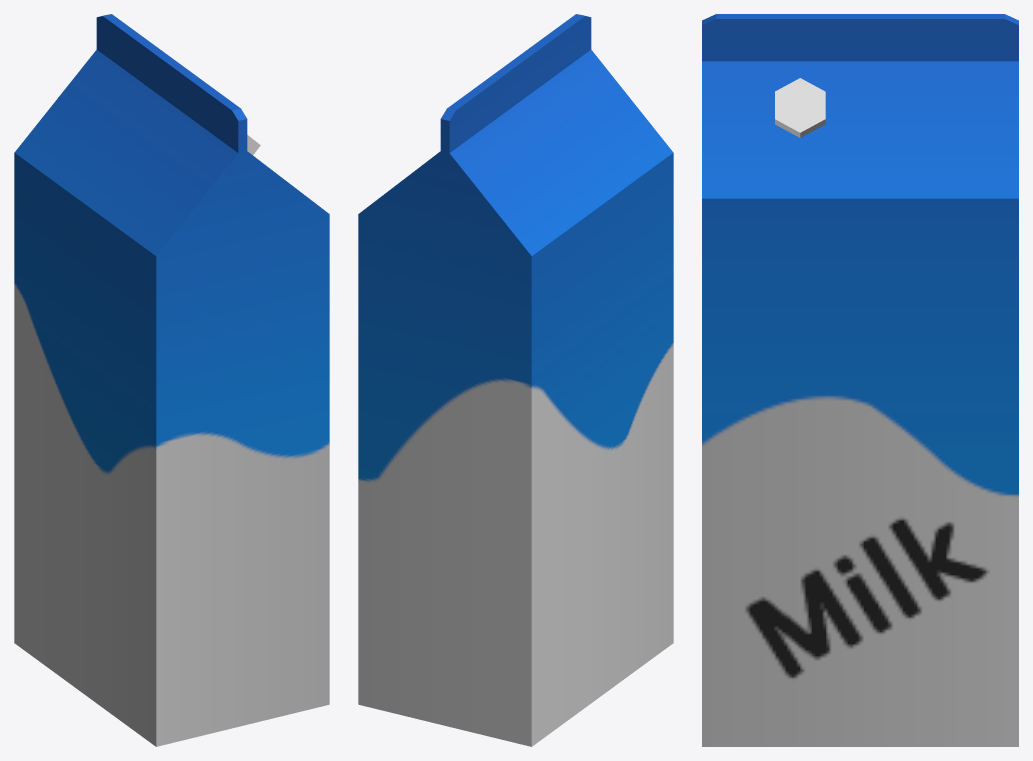
The model's file is milk.fbx.
3 renders of one model, left to right at view 1: azimuth 30°, elevation 25°; view 2: azimuth 150°, elevation 25°; view 3: azimuth 270°, elevation 25°, orthographic. The views are drawn at different scales.
Visible parts, largest first — view 1: milk; view 2: milk; view 3: milk.
Boxes of the visible parts, left/top/right/bottom form: milk: left=14, top=14, right=329, bottom=746; milk: left=358, top=14, right=673, bottom=746; milk: left=702, top=14, right=1018, bottom=746.
Bounding box in the file's own units: 6.12 × 20.63 × 8.66.
1 material, 1 textured.
